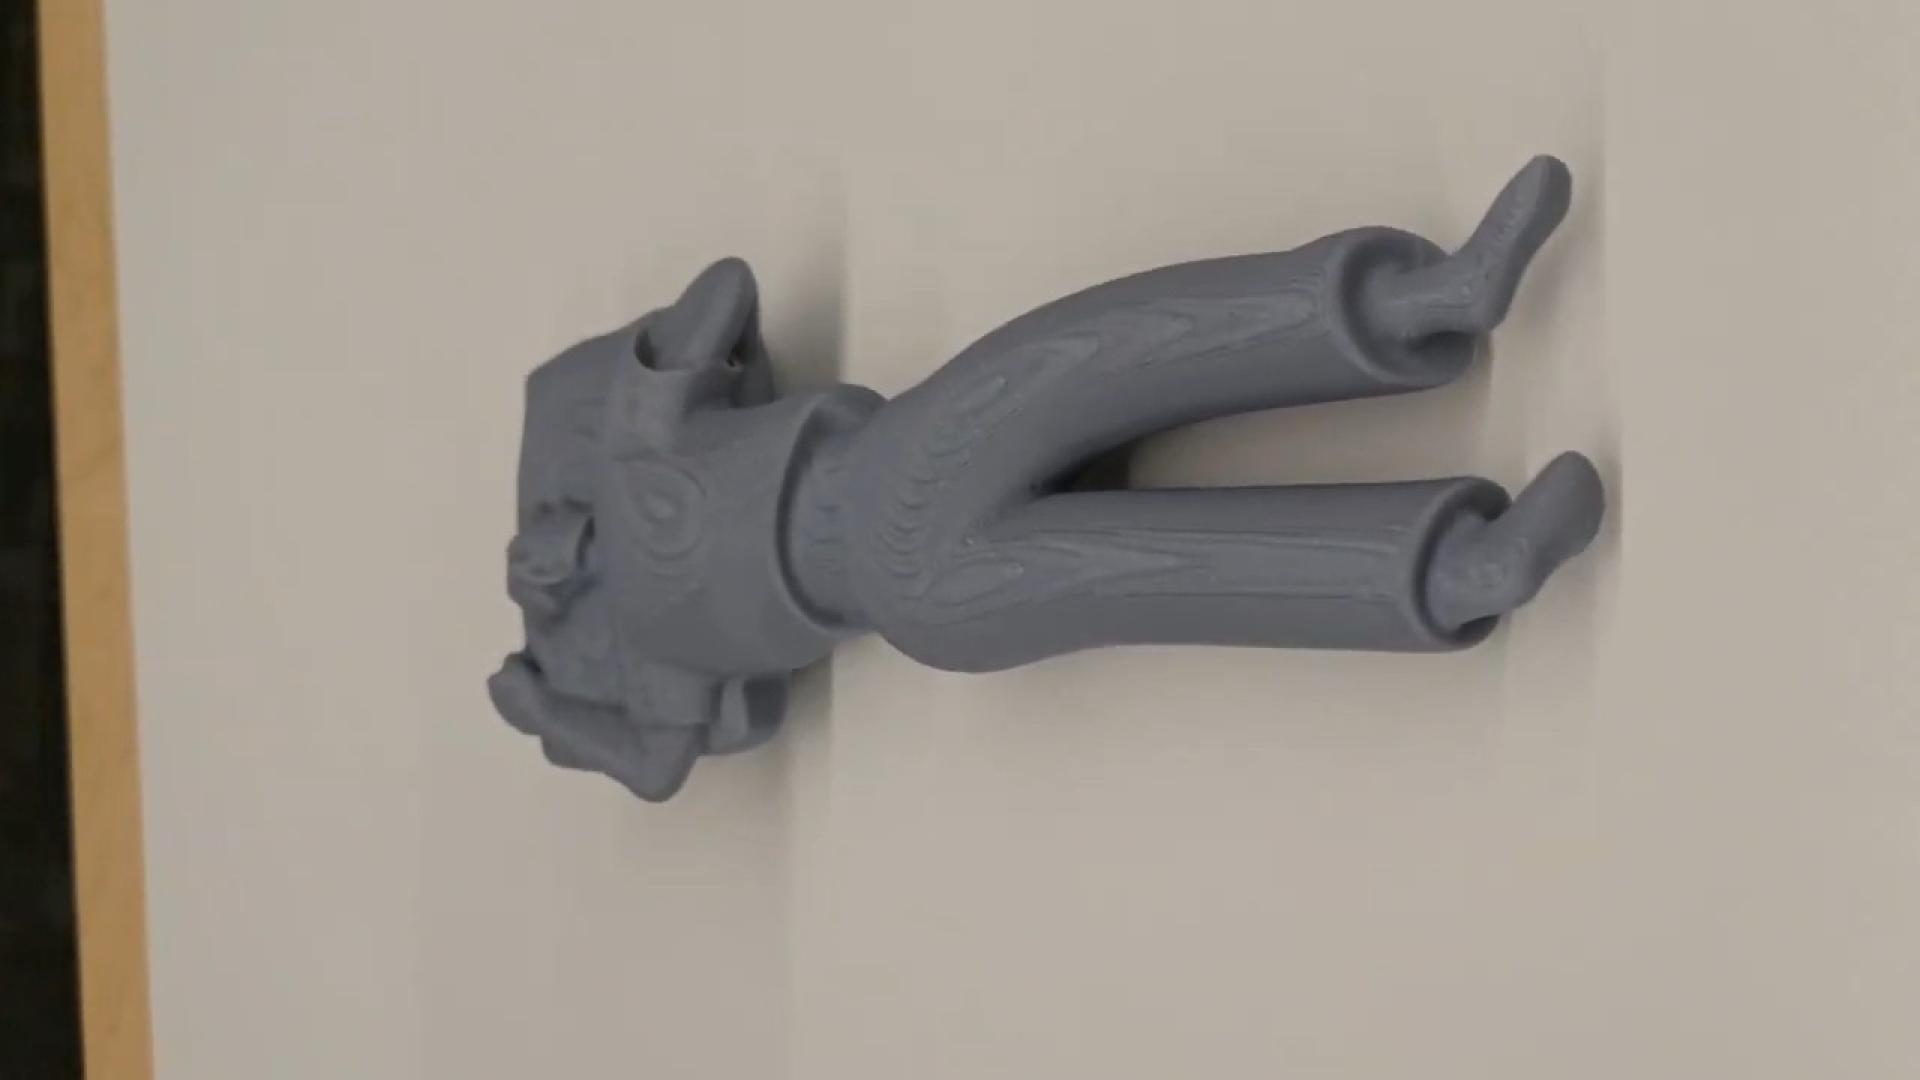Bad-style: (485, 153, 1617, 819)
